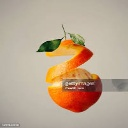orange: (46, 66, 103, 112)
